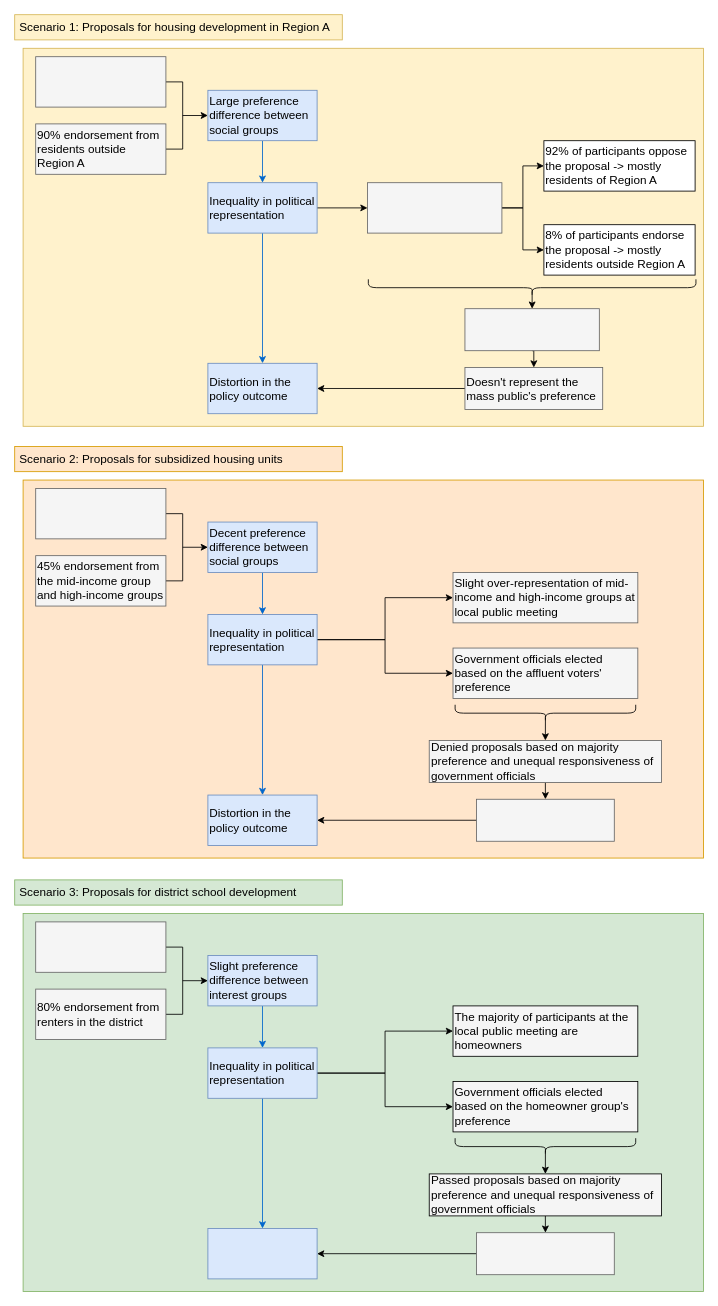
Some shapes in this 718 by 1306 pixel diagram are drawn without their labels. Each missing label, with the box of its shape:
20% endorsement from residents in Region A: (35, 56, 166, 107)
85% endorsement from homeowners in the district: (35, 921, 166, 972)
90% endorsement from the low-income group: (35, 488, 166, 539)
Denied proposals based on majority preference: (464, 308, 599, 351)
Doesn't represent the low-income group's preference: (476, 798, 614, 841)
No distortion in the policy outcome: (207, 1228, 317, 1279)
Participants at local public meetings are mostly from Region A: (367, 182, 502, 233)
The majority of renters' preference is also represented: (476, 1232, 614, 1275)
